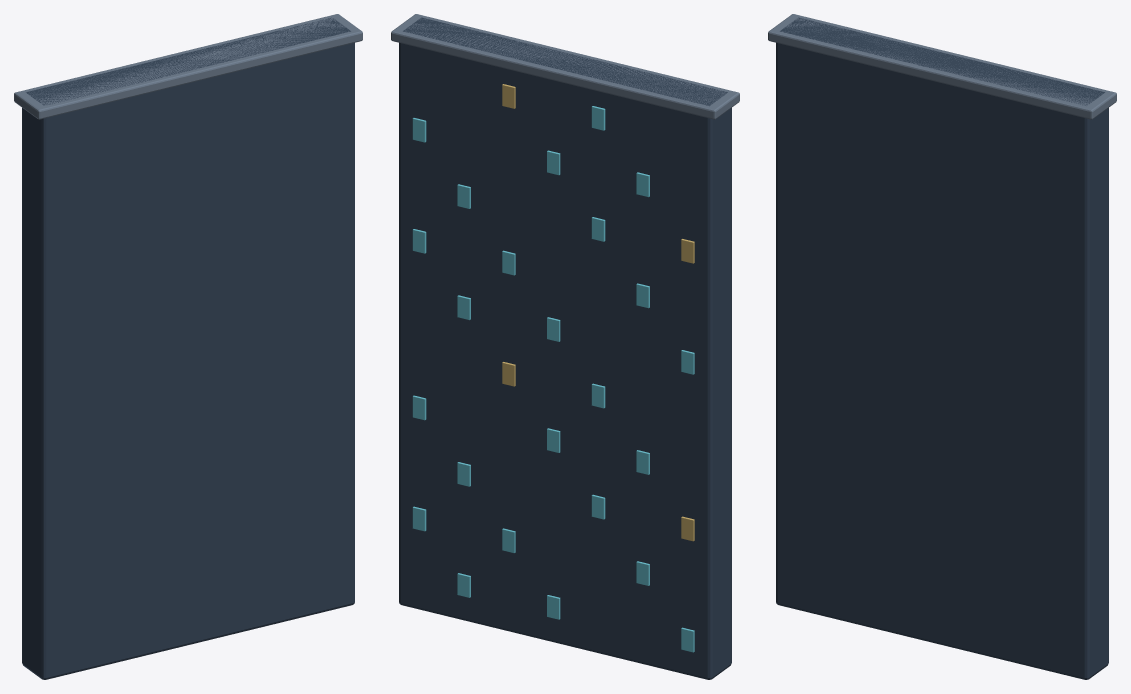
The model's file is CityCard_A.fbx.
3 renders of one model, left to right at view 1: azimuth 30°, elevation 25°; view 2: azimuth 150°, elevation 25°; view 3: azimuth 330°, elevation 25°, orthographic.
Parts seen in each view (by area): view 1: CityCard_A; view 2: CityCard_A; view 3: CityCard_A.
Boxes of the visible parts, left/top/right/bottom form: CityCard_A: left=14, top=14, right=362, bottom=679; CityCard_A: left=391, top=14, right=739, bottom=679; CityCard_A: left=768, top=14, right=1116, bottom=679.
Bounding box in the file's own units: 8.3 × 14 × 1.12.
